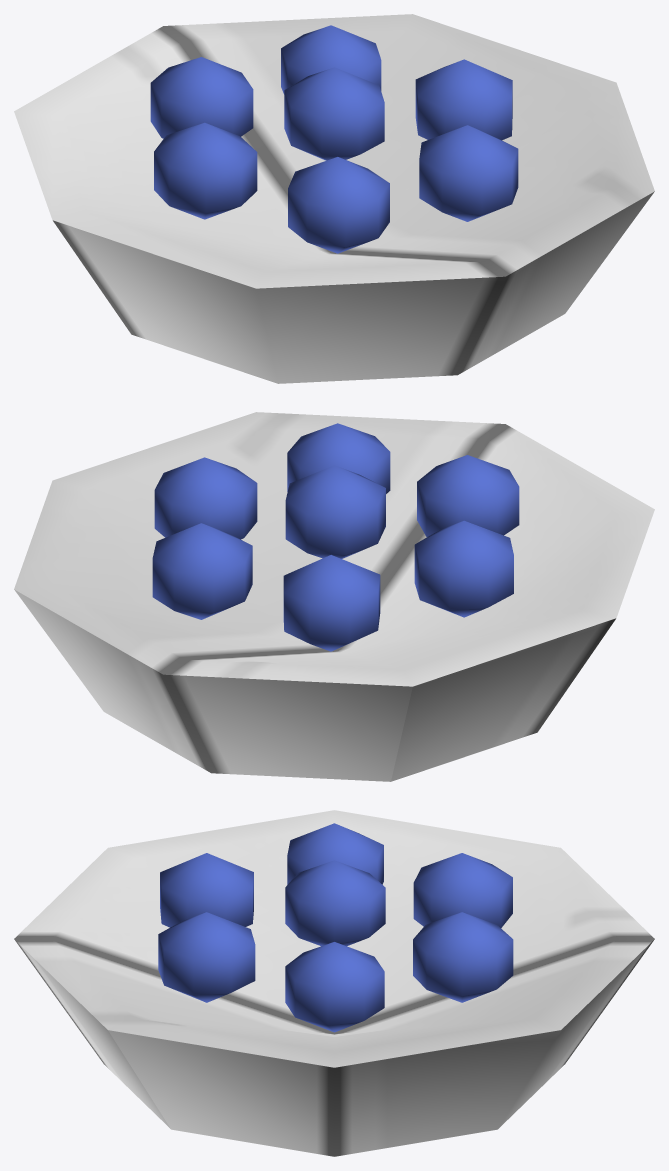
The model's file is food_berries_b.obj.
The picture shows the model from 3 angles, top to bottom: view 1: azimuth 30°, elevation 25°; view 2: azimuth 150°, elevation 25°; view 3: azimuth 270°, elevation 25°; orthographic projection. The views are drawn at different scales.
Parts seen in each view (by area): view 1: shallow_wooden_basket, berry_5, berry_4, berry_3, berry_1, berry_6, berry_2, berry_7; view 2: shallow_wooden_basket, berry_7, berry_5, berry_1, berry_6, berry_2, berry_4, berry_3; view 3: shallow_wooden_basket, berry_7, berry_2, berry_1, berry_3, berry_6, berry_4, berry_5.
Boxes of the visible parts, bbox=[...] form: shallow_wooden_basket: bbox=[14, 14, 654, 383]; berry_5: bbox=[154, 122, 257, 219]; berry_4: bbox=[288, 157, 389, 253]; berry_3: bbox=[419, 125, 518, 221]; berry_1: bbox=[284, 67, 384, 160]; berry_6: bbox=[150, 57, 253, 138]; berry_2: bbox=[415, 59, 512, 140]; berry_7: bbox=[281, 25, 381, 94]; shallow_wooden_basket: bbox=[14, 412, 654, 781]; berry_7: bbox=[152, 523, 252, 619]; berry_5: bbox=[414, 520, 513, 617]; berry_1: bbox=[285, 465, 385, 558]; berry_6: bbox=[283, 555, 380, 651]; berry_2: bbox=[154, 457, 257, 539]; berry_4: bbox=[417, 455, 519, 536]; berry_3: bbox=[287, 423, 390, 493]; shallow_wooden_basket: bbox=[14, 810, 654, 1156]; berry_7: bbox=[413, 912, 513, 1002]; berry_2: bbox=[285, 942, 384, 1032]; berry_1: bbox=[285, 860, 385, 946]; berry_3: bbox=[158, 912, 255, 1002]; berry_6: bbox=[413, 853, 512, 927]; berry_4: bbox=[160, 853, 253, 927]; berry_5: bbox=[287, 823, 383, 884].
Size of the model in its own units: 0.4056 by 0.1496 by 0.4264.
